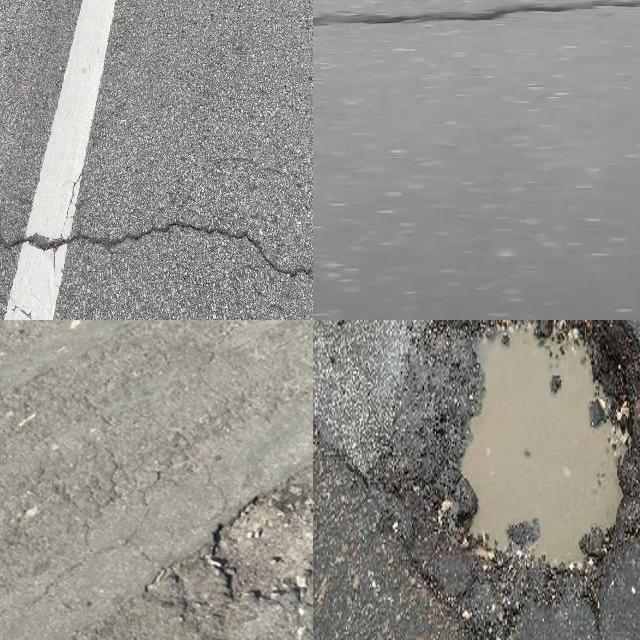Lubang: (439, 320, 640, 579), (212, 484, 313, 612)
Melintang: (313, 0, 640, 47)
